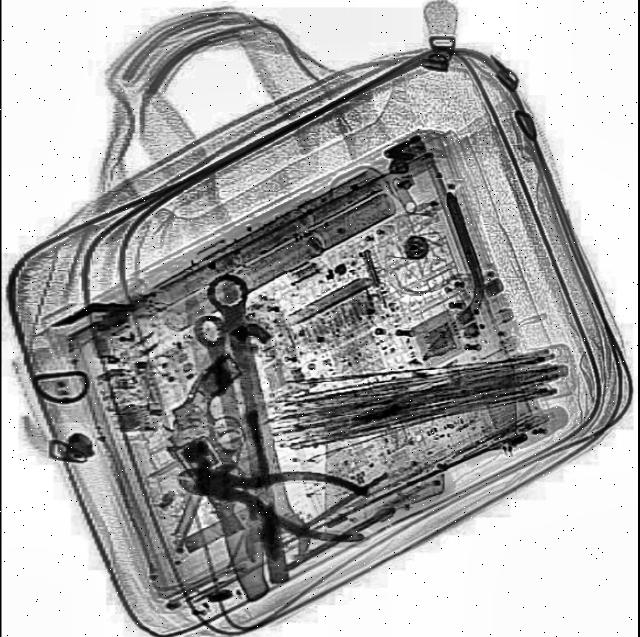Gun: (150, 349, 300, 544)
Pliers: (170, 446, 371, 552)
Wrench: (201, 266, 312, 569), (183, 309, 284, 568)
